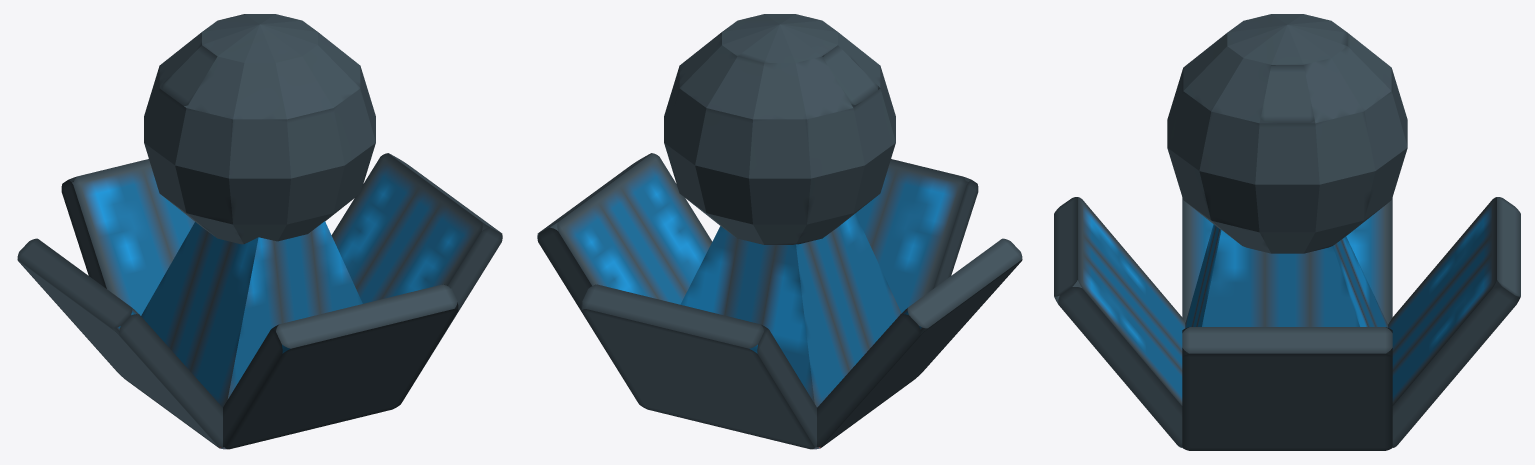
Rendered from shield.obj.
3 renders of one model, left to right at view 1: azimuth 30°, elevation 25°; view 2: azimuth 150°, elevation 25°; view 3: azimuth 270°, elevation 25°, orthographic. The views are drawn at different scales.
Visible parts, largest first — view 1: mesh, sphere; view 2: mesh, sphere; view 3: mesh, sphere.
Part boxes in pixels (x1,y1,x2,y2): mesh: (17,153,502,449); sphere: (144,14,375,244); mesh: (537,153,1022,449); sphere: (664,14,895,244); mesh: (1054,197,1520,450); sphere: (1167,14,1407,253).
Bounding box in the file's own units: 1.94 × 1.75 × 1.94.
1 material, 1 textured.
